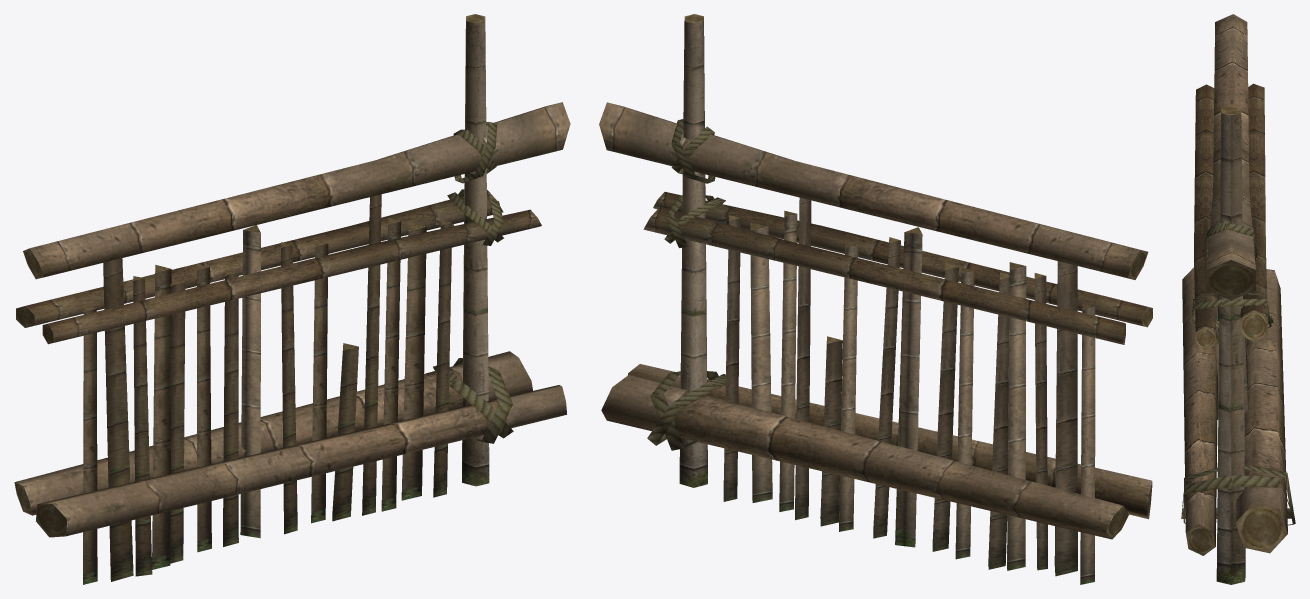
File: MainCity_ZhaLan_04.fbx
3 views of the same model, side by side, from view 1: azimuth 30°, elevation 25°; view 2: azimuth 150°, elevation 25°; view 3: azimuth 270°, elevation 25° (orthographic).
Parts seen in each view (by area): view 1: MainCity_ZhaLan_04; view 2: MainCity_ZhaLan_04; view 3: MainCity_ZhaLan_04.
Boxes of the visible parts, <box> form: MainCity_ZhaLan_04: <box>14,14,570,584</box>; MainCity_ZhaLan_04: <box>599,14,1152,584</box>; MainCity_ZhaLan_04: <box>1181,14,1295,584</box>.
Size of the model in its own units: 280 by 236 by 51.39.
1 material, 1 textured.
